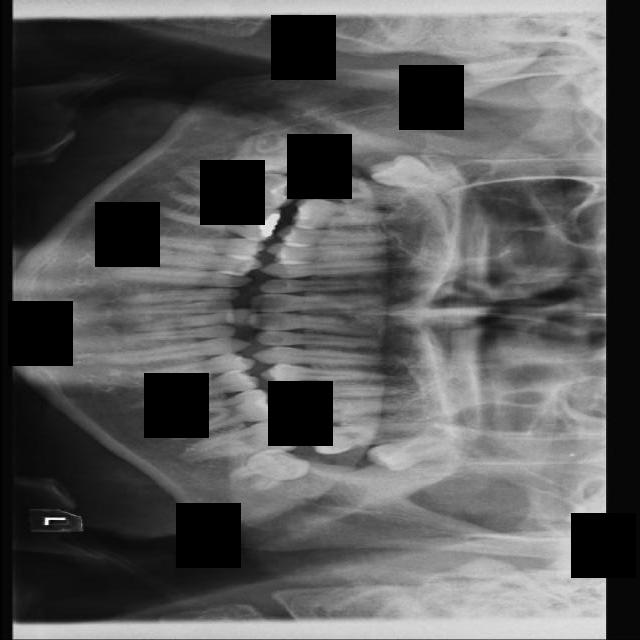3M ESPE Implant: (366, 148, 458, 196)
52: (251, 407, 304, 461), (256, 169, 302, 220), (243, 202, 286, 251)
73: (76, 574, 84, 578)
BioHorizons Implant: (300, 418, 420, 457)
BioLife Implant: (363, 436, 459, 476)
Biomet 3i Implant: (222, 436, 313, 501)
Blue Sky Bio Implant: (177, 414, 299, 462)
Caries: (301, 167, 420, 209)
Implant: (181, 169, 299, 211)
Keystone Dental Implant: (218, 129, 301, 183)
